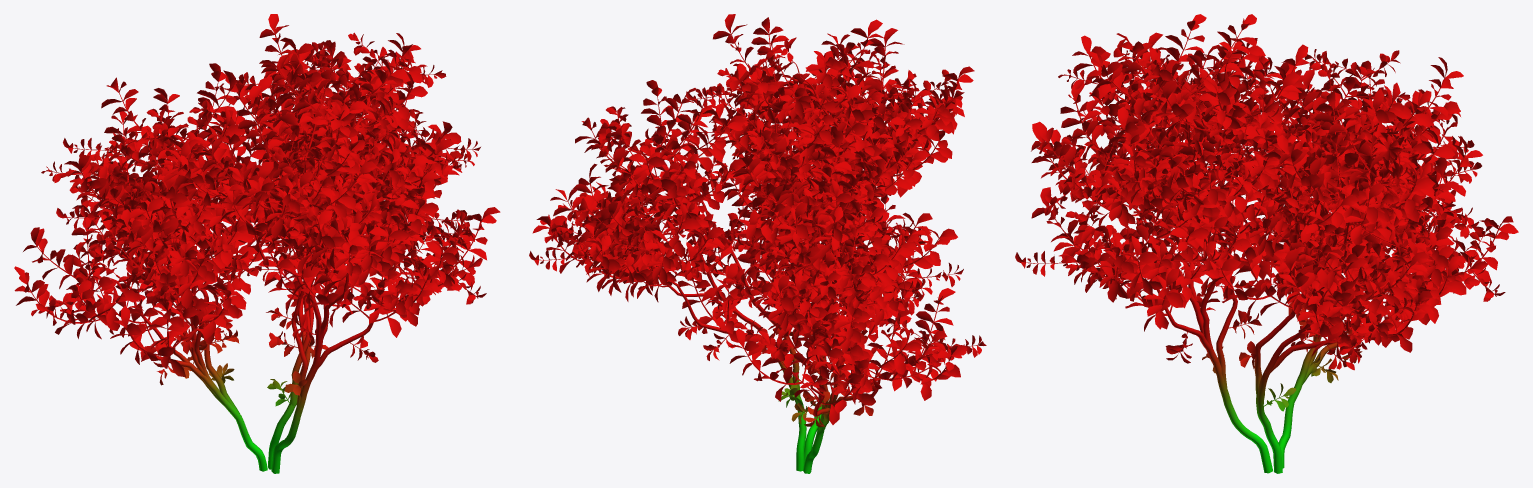
The model's file is European Spindle_LOD2_Var17.fbx.
The picture shows the model from 3 angles, left to right: view 1: azimuth 30°, elevation 25°; view 2: azimuth 150°, elevation 25°; view 3: azimuth 270°, elevation 25°; orthographic projection. The views are drawn at different scales.
Parts seen in each view (by area): view 1: _atlr_Var17_LOD2; view 2: _atlr_Var17_LOD2; view 3: _atlr_Var17_LOD2.
Part boxes in pixels (bbox=[...]): _atlr_Var17_LOD2: bbox=[14, 14, 500, 473]; _atlr_Var17_LOD2: bbox=[529, 14, 986, 473]; _atlr_Var17_LOD2: bbox=[1015, 14, 1518, 473].
Size of the model in its own units: 317 by 287 by 292.
